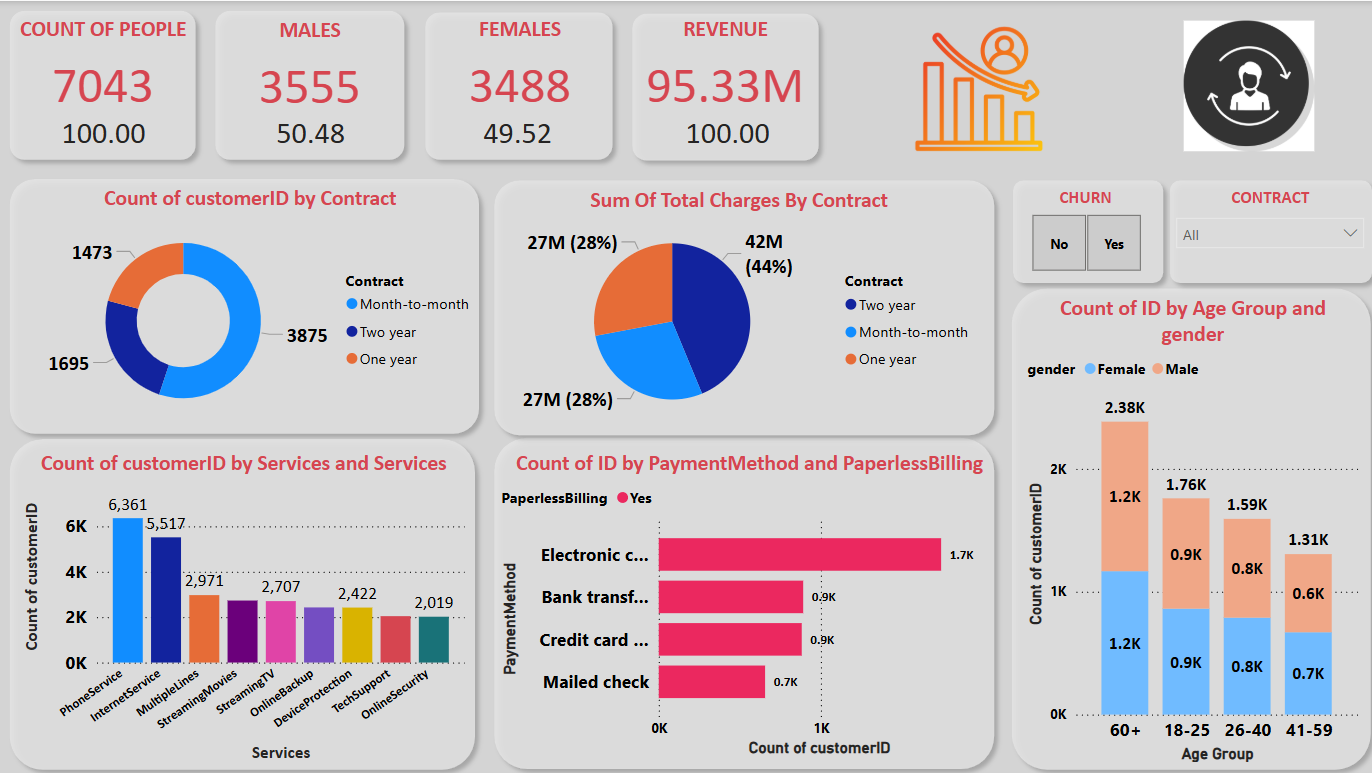

This screenshot's page, from the dashboard's own definition file:
{"tool":"powerbi","page":{"name":"Churndataset","canvas":[1280,720],"ordinal":0},"visuals":[{"type":"shape","box":[0,0,190.2,156.2],"z":0},{"type":"card","title":"COUNT OF PEOPLE","fields":{"Values":["Count(01 Churn-Dataset.customerID)"]},"box":[11.7,13.2,167.3,98.3],"z":1000},{"type":"shape","box":[190.2,0,193.1,156.2],"z":2000},{"type":"shape","box":[384.8,1.4,191.7,154.8],"z":3000},{"type":"card","title":"FEMALES","fields":{"Values":["01 Churn-Dataset.Female"]},"box":[400.4,12.8,161.9,98],"z":4000},{"type":"card","title":"MALES","fields":{"Values":["01 Churn-Dataset.Male"]},"box":[206.9,14.7,161.4,96.9],"z":5000},{"type":"shape","box":[0,156.2,452.9,254.1],"z":6000},{"type":"donutChart","fields":{"Category":["01 Churn-Dataset.Contract"],"Y":["Count(01 Churn-Dataset.customerID)"]},"box":[14.2,170.4,434.4,227.2],"z":7000},{"type":"card","fields":{"Values":["01 Churn-Dataset.Percentage_Male"]},"box":[240.7,98.3,93.9,45.5],"z":8000},{"type":"card","fields":{"Values":["01 Churn-Dataset.Percentage_Female"]},"box":[433,98.3,93.9,45.5],"z":9000},{"type":"card","fields":{"Values":["01 Churn-Dataset.People percent"]},"box":[36.7,98.3,117.4,45.5],"z":10000},{"type":"shape","box":[448.6,396.1,481.3,325.1],"z":11000},{"type":"clusteredBarChart","title":"Count of ID by PaymentMethod and PaperlessBilling","fields":{"Category":["01 Churn-Dataset.PaymentMethod"],"Y":["Count(01 Churn-Dataset.customerID)"],"Series":["01 Churn-Dataset.PaperlessBilling"]},"box":[460,416,469.9,289.6],"z":12000},{"type":"shape","box":[448.6,157.6,481.3,254.1],"z":13000},{"type":"pieChart","title":"Sum Of Total Charges By Contract","fields":{"Y":["Sum(01 Churn-Dataset.TotalCharges)"],"Category":["01 Churn-Dataset.Contract"]},"box":[457.9,171.7,453.5,226],"z":14000},{"type":"shape","box":[576.8,2.9,190.8,154.1],"z":15000},{"type":"card","title":"REVENUE","fields":{"Values":["Sum(01 Churn-Dataset.TotalCharges)"]},"box":[592,12.8,161.9,98],"z":16000},{"type":"card","fields":{"Values":["01 Churn-Dataset.Revenue %"]},"box":[626.7,98.3,93.9,45.5],"z":17000},{"type":"shape","box":[0,396.3,449.1,324.4],"z":18000},{"type":"columnChart","fields":{"Category":["01 Churn-Dataset.Services"],"Y":["CountNonNull(01 Churn-Dataset.customerID)"],"Series":["01 Churn-Dataset.Services"]},"box":[16.1,415.4,419.8,295],"z":19000},{"type":"shape","box":[928.5,257,350.7,464.3],"z":20000},{"type":"columnChart","title":"Count of ID by Age Group and gender","fields":{"Category":["01 Churn-Dataset.Age Group"],"Y":["Count(01 Churn-Dataset.customerID)"],"Series":["01 Churn-Dataset.gender"]},"box":[947,271.2,316.6,438.7],"z":21000},{"type":"shape","box":[1074.4,157,205.5,113],"z":22000},{"type":"slicer","title":"CONTRACT","fields":{"Values":["01 Churn-Dataset.Contract"]},"box":[1080.2,171.7,193.7,99.8],"z":23000},{"type":"shape","box":[929.1,157,157,113],"z":24000},{"type":"slicer","title":"CHURN","fields":{"Values":["01 Churn-Dataset.Churn"]},"box":[930.5,171.7,149.7,85.1],"z":25000},{"type":"image","box":[767.6,16.1,280.3,130.6],"z":26000},{"type":"image","box":[1036.2,13.2,242.2,130.6],"z":27000}]}

Visuals, with their boxes in screenshot pixels (x1, y1, x2, y2), scaled from the page's 1280x720 canvas onto the 1372x773 screenshot:
shape: (0,0,204,168)
"COUNT OF PEOPLE" card: (13,14,192,120)
shape: (204,0,411,168)
shape: (412,2,618,168)
"FEMALES" card: (429,14,603,119)
"MALES" card: (222,16,395,120)
shape: (0,168,485,441)
donutChart - 01 Churn-Dataset.Contract x Count(01 Churn-Dataset.customerID): (15,183,481,427)
card - 01 Churn-Dataset.Percentage_Male: (258,106,359,154)
card - 01 Churn-Dataset.Percentage_Female: (464,106,565,154)
card - 01 Churn-Dataset.People percent: (39,106,165,154)
shape: (481,425,997,772)
"Count of ID by PaymentMethod and PaperlessBilling" clusteredBarChart: (493,447,997,758)
shape: (481,169,997,442)
"Sum Of Total Charges By Contract" pieChart: (491,184,977,427)
shape: (618,3,823,169)
"REVENUE" card: (635,14,808,119)
card - 01 Churn-Dataset.Revenue %: (672,106,772,154)
shape: (0,425,481,772)
columnChart - 01 Churn-Dataset.Services x CountNonNull(01 Churn-Dataset.customerID): (17,446,467,763)
shape: (995,276,1371,772)
"Count of ID by Age Group and gender" columnChart: (1015,291,1354,762)
shape: (1152,169,1371,290)
"CONTRACT" slicer: (1158,184,1365,291)
shape: (996,169,1164,290)
"CHURN" slicer: (997,184,1158,276)
image: (823,17,1123,157)
image: (1111,14,1370,154)
